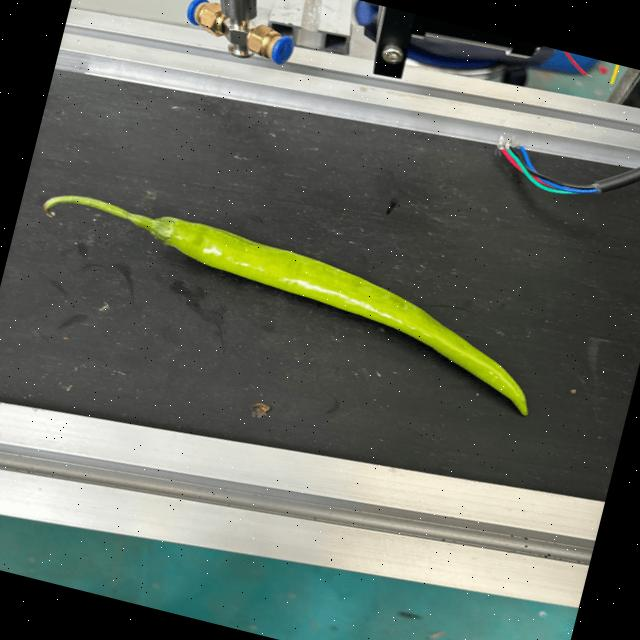chili: (149, 214, 529, 418)
